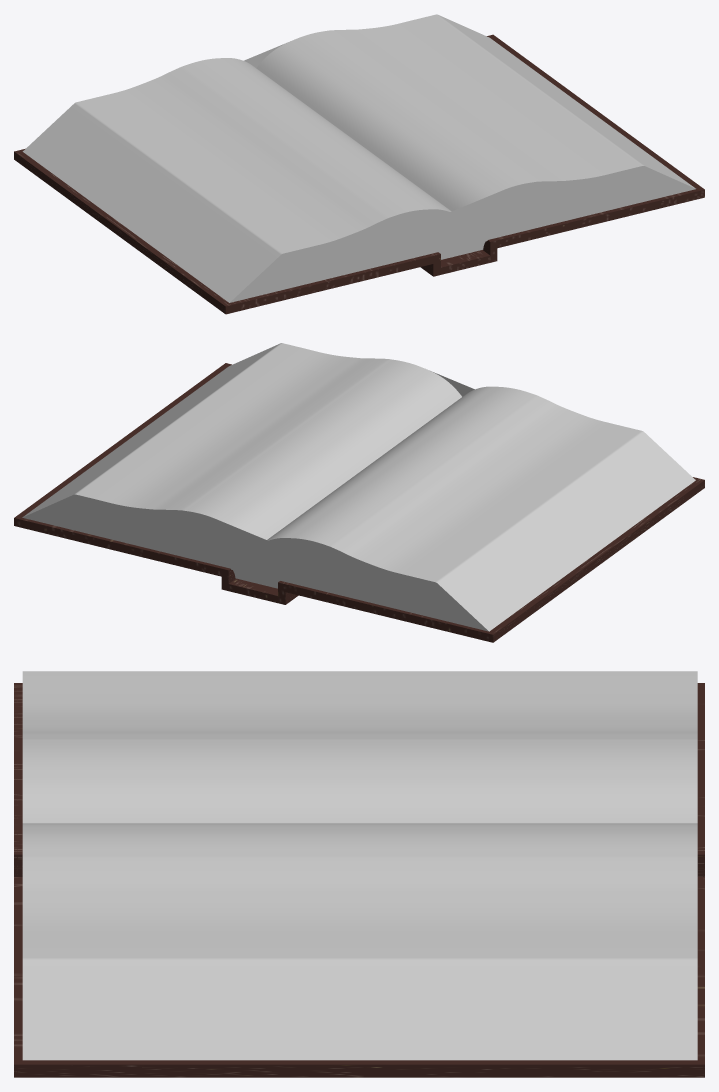
Rendered from RedBookOpen.fbx.
3 views of the same model, one above another, from view 1: azimuth 30°, elevation 25°; view 2: azimuth 150°, elevation 25°; view 3: azimuth 270°, elevation 25° (orthographic). The views are drawn at different scales.
Parts seen in each view (by area): view 1: polySurface2, book2; view 2: polySurface2, book2; view 3: polySurface2, book2.
Boxes of the visible parts, x1,y1,x2,y2 form: polySurface2: [22, 14, 695, 302]; book2: [14, 34, 704, 314]; polySurface2: [22, 343, 695, 631]; book2: [14, 363, 704, 642]; polySurface2: [22, 671, 697, 1060]; book2: [14, 683, 704, 1077].
Size of the model in its own units: 32.45 by 4.42 by 24.83.
